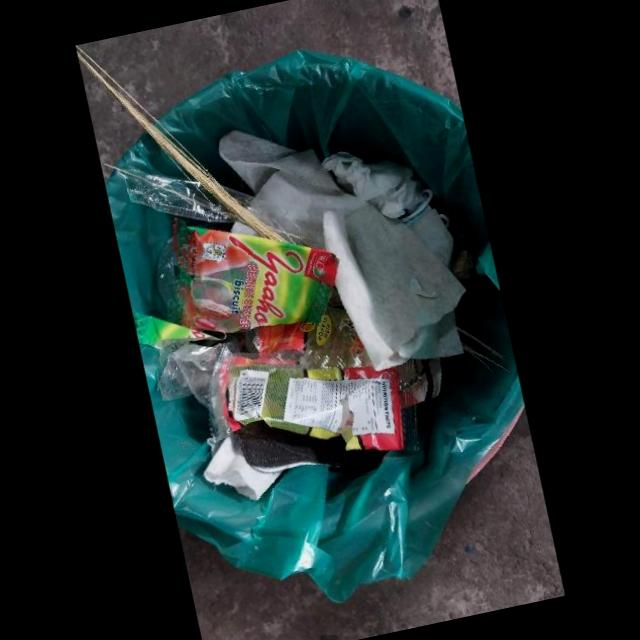bao_bi_thuc_pham: (132, 218, 339, 349), (209, 346, 419, 451)
giay: (218, 130, 466, 372)
khau_trang: (235, 419, 355, 472)
